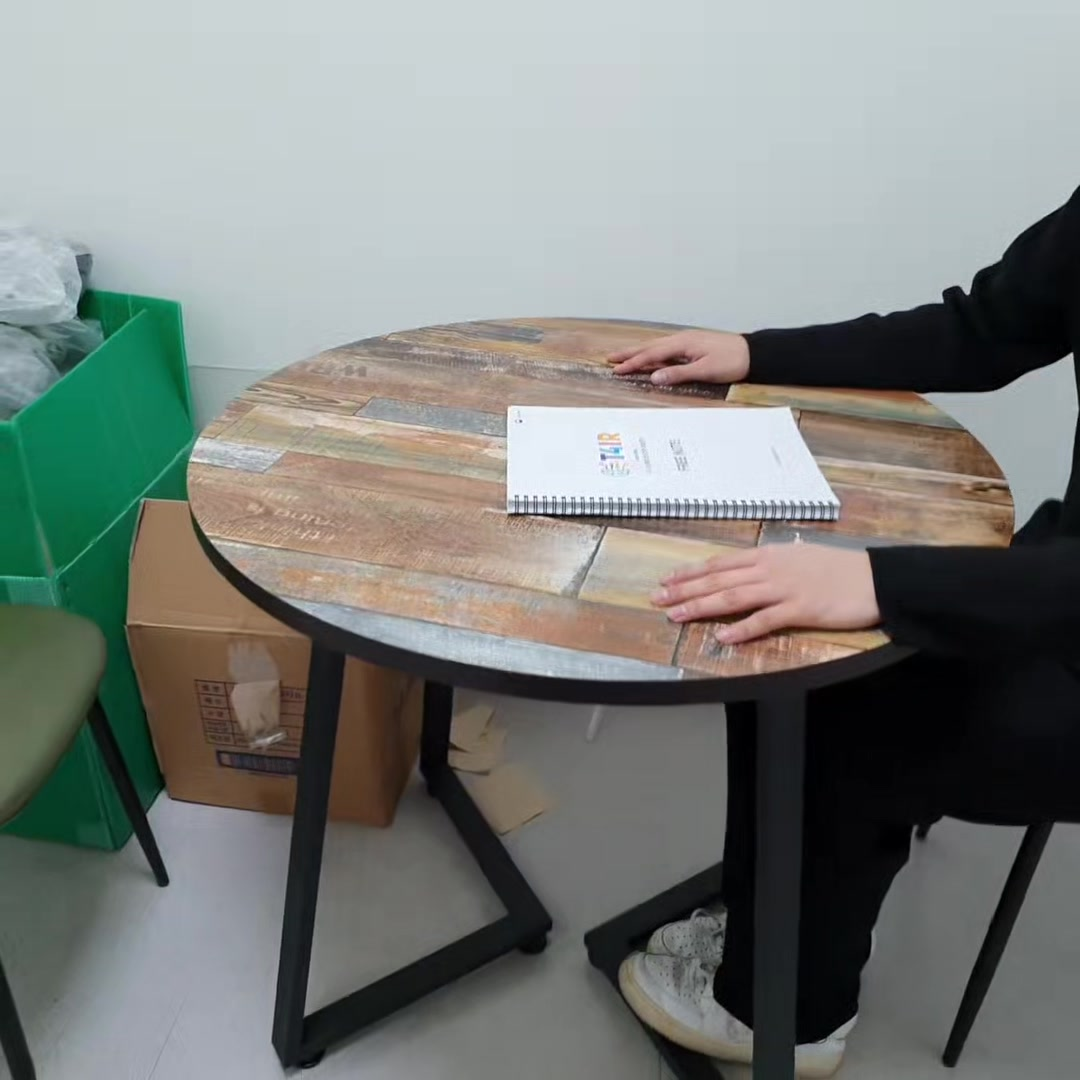book: (505, 404, 845, 520)
